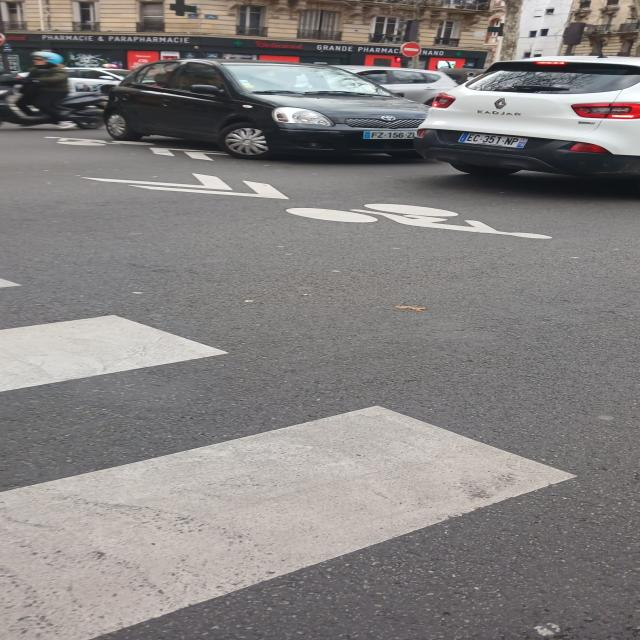Autre: (455, 129, 532, 149)
EU: (358, 128, 421, 140)
